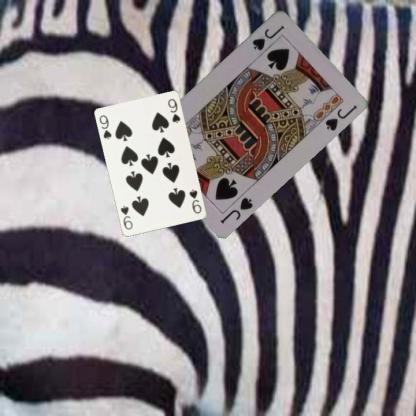9s: (186, 187, 202, 215), (97, 113, 113, 140)
Js: (218, 194, 256, 225), (250, 22, 286, 52)
